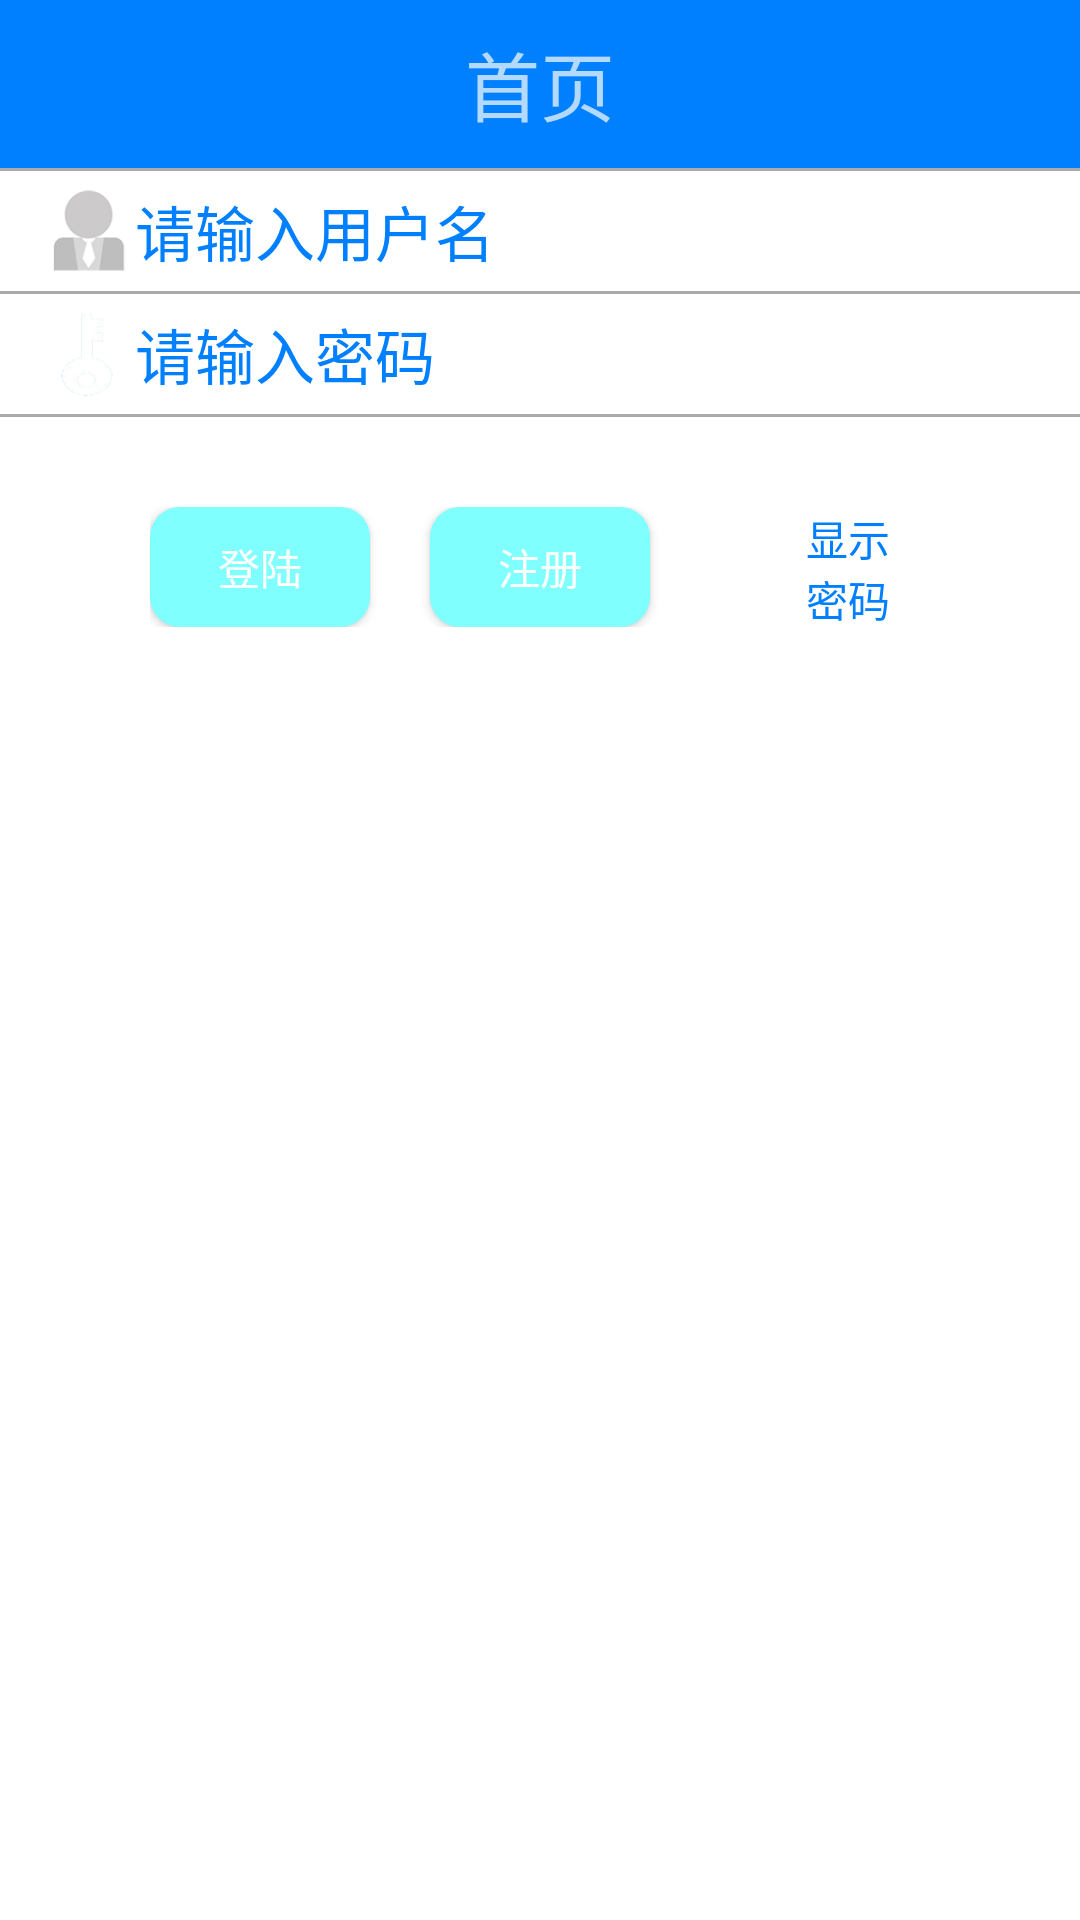

Named icons in this screenshot (1080 × 1920) and their bounding boxes, rect(x1, y1, x2, y2):
touxiang: rect(54, 191, 124, 271)
